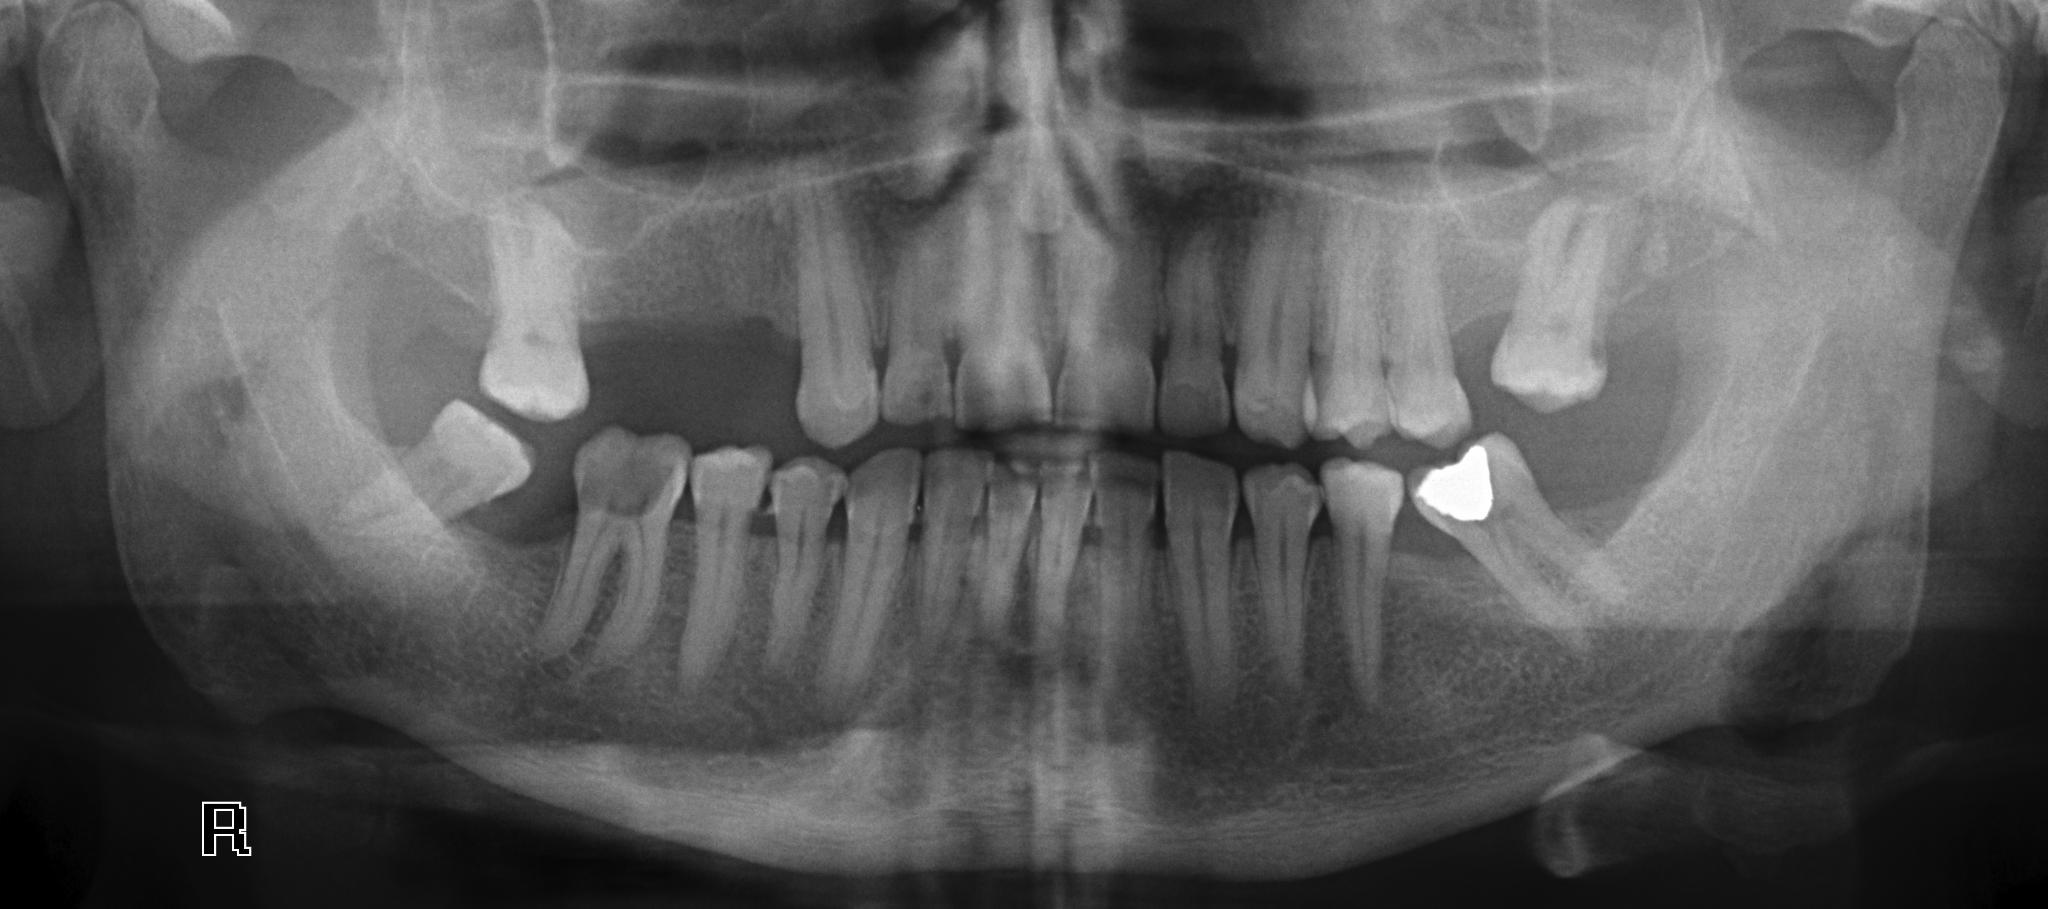Fillings: (1407, 435, 1616, 643)
Impacted Tooth: (344, 396, 533, 558), (1789, 1, 1963, 48)
Implant: (200, 803, 251, 857)
